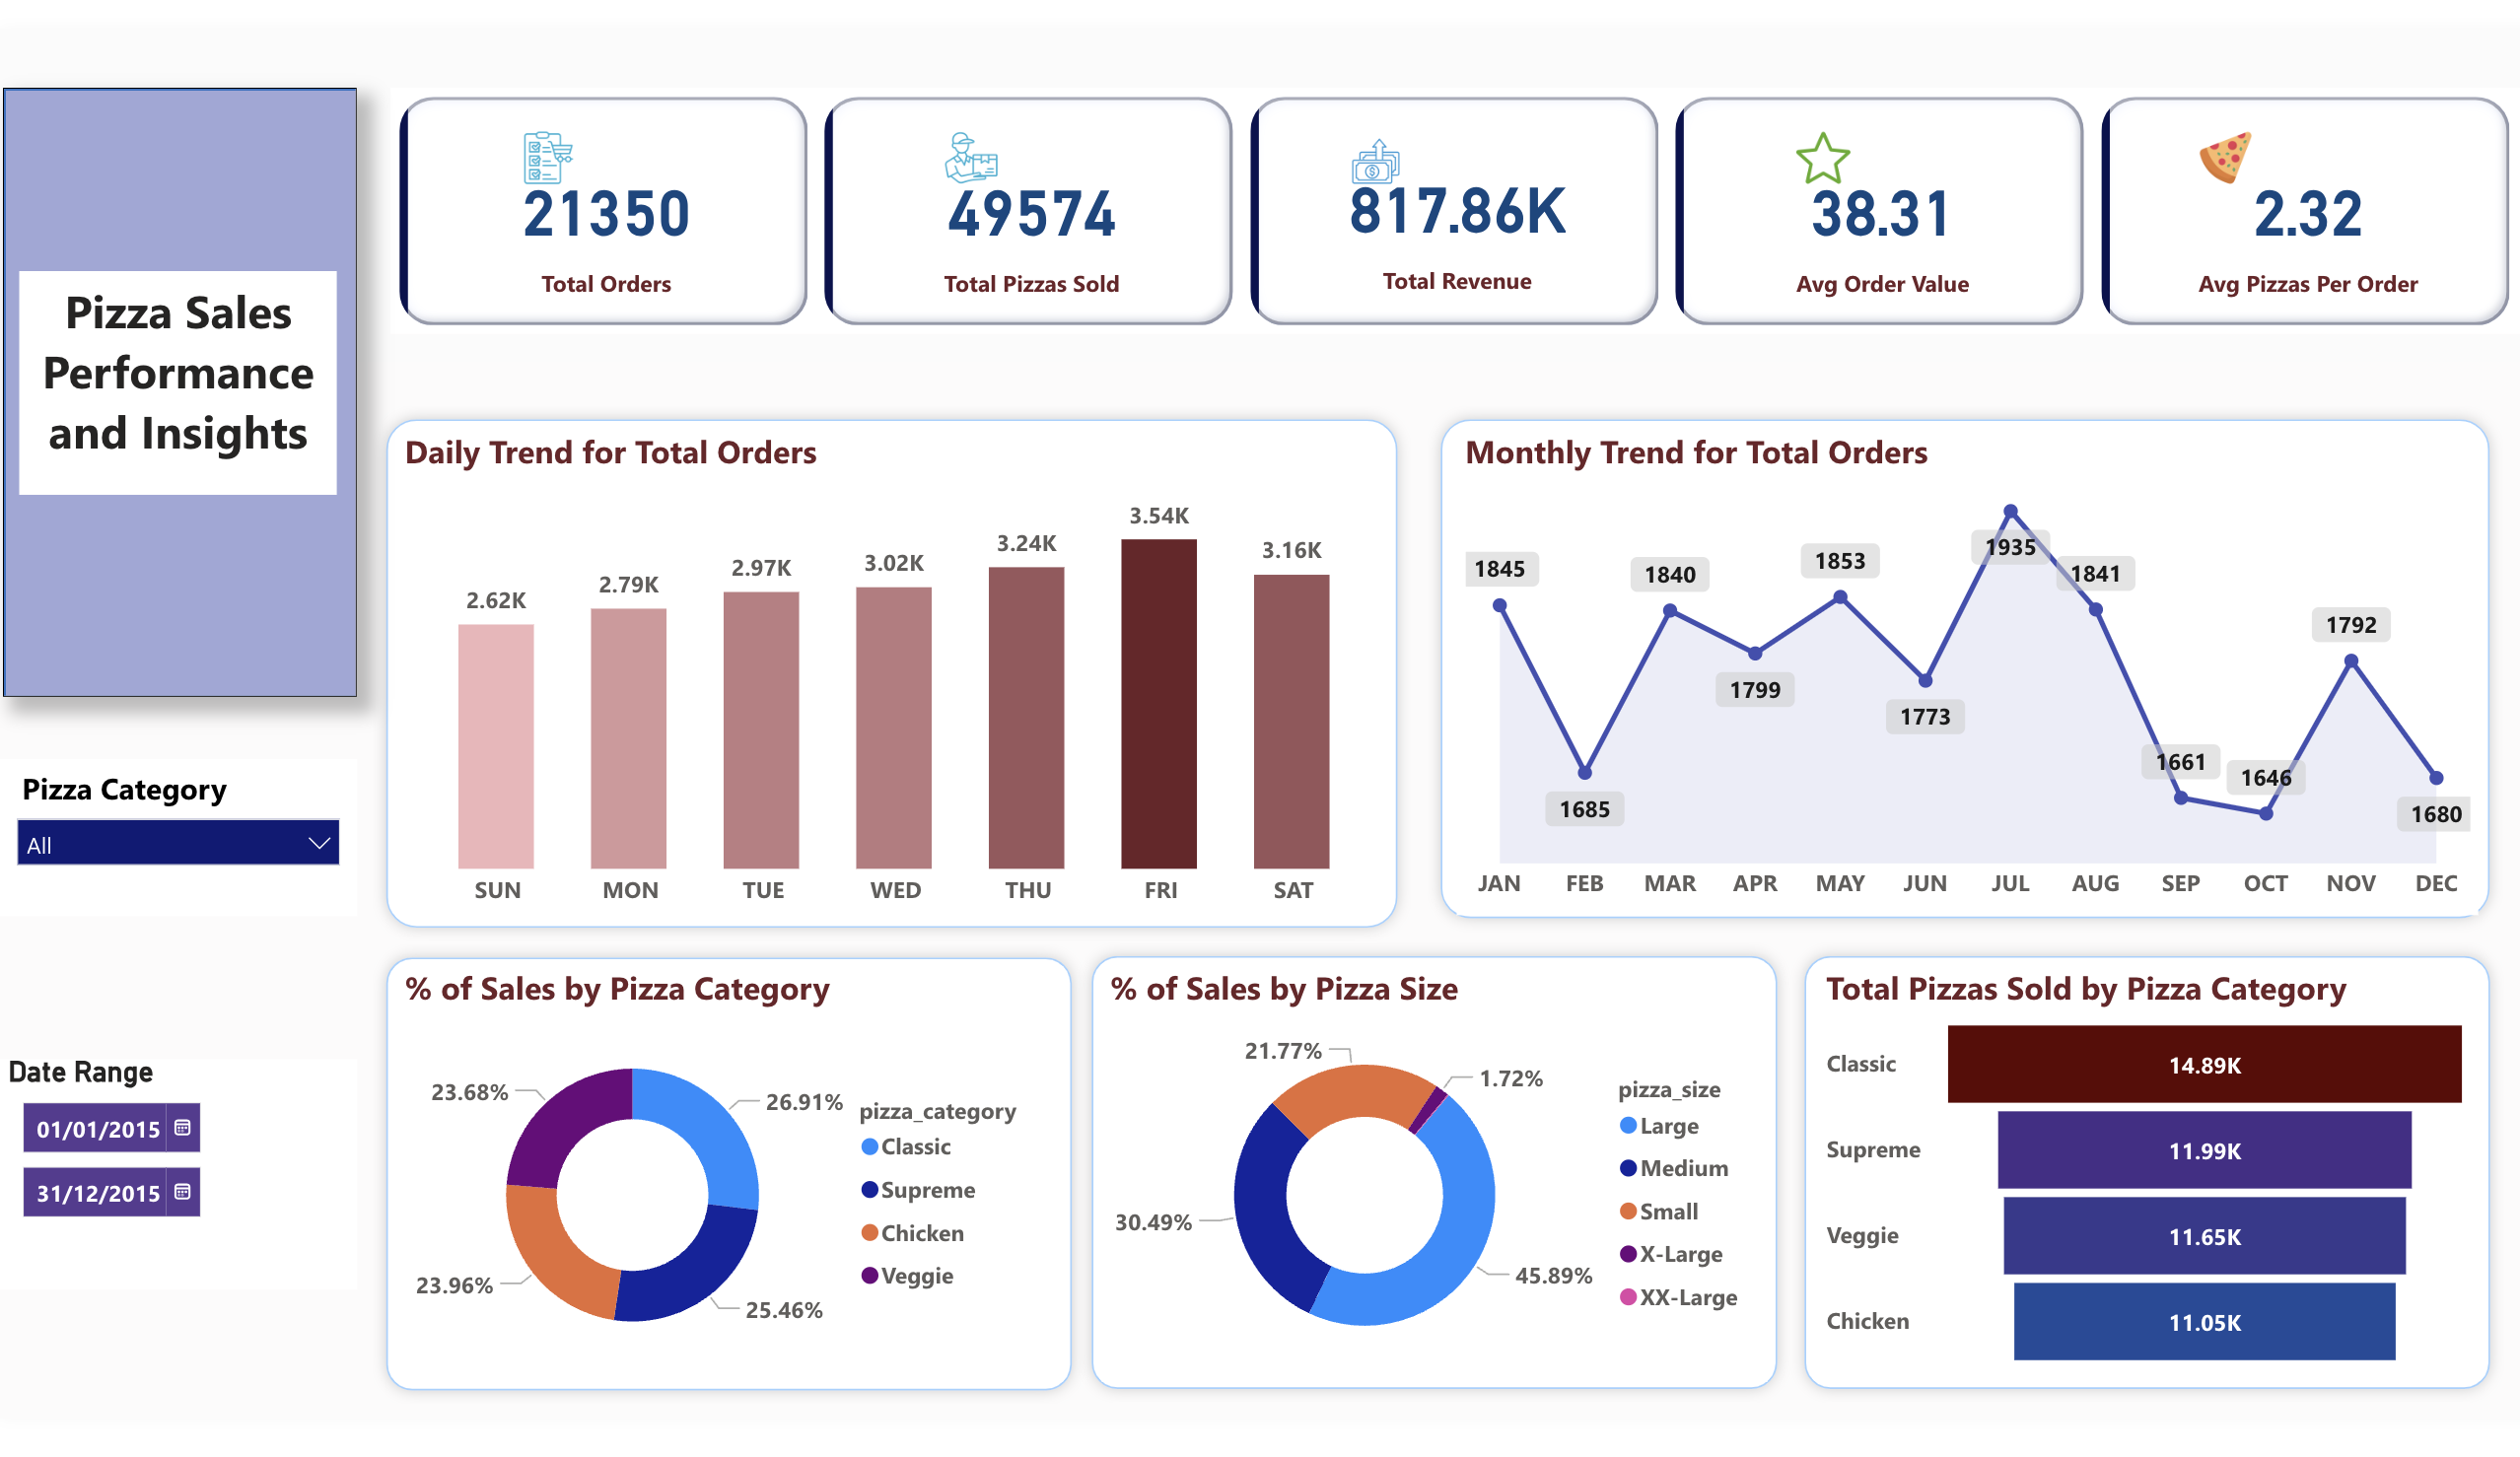

The dashboard page shown, as its layout file describes it:
{"tool":"powerbi","page":{"name":"Pizza Sales Analysis","canvas":[1500,820],"ordinal":0},"visuals":[{"type":"cardVisual","fields":{"Data":["pizza_sales.Total Orders","pizza_sales.Total Pizzas Sold","pizza_sales.Total Revenue","pizza_sales.Avg Order Value","pizza_sales.Avg Pizzas Per Order"]},"box":[230.5,35,1257.2,145.1],"z":0},{"type":"shape","box":[220,222.8,612.6,316],"z":1000},{"type":"clusteredColumnChart","title":"Daily Trend for Total Orders","fields":{"Category":["pizza_sales.Day "],"Y":["pizza_sales.Total Orders"]},"box":[233.9,236.7,588.9,291],"z":2000},{"type":"shape","box":[842.3,222.8,634.8,310.5],"z":3000},{"type":"areaChart","title":"Monthly Trend for Total Orders","fields":{"Category":["pizza_sales.Month"],"Y":["pizza_sales.Total Orders"]},"box":[859,236.7,602.8,286.8],"z":4000},{"type":"shape","box":[1056.7,538.8,420.4,271.5],"z":5000},{"type":"shape","box":[636.2,538.8,420.4,271.5],"z":6000},{"type":"shape","box":[220,540.2,420.4,271.5],"z":7000},{"type":"donutChart","title":"% of Sales by Pizza Category","fields":{"Category":["pizza_sales.pizza_category"],"Y":["pizza_sales.Total Revenue"]},"box":[233.5,553.5,393,244.9],"z":8000},{"type":"donutChart","title":"% of Sales by Pizza Size","fields":{"Y":["pizza_sales.Total Revenue"],"Category":["pizza_sales.pizza_size"]},"box":[650.2,552.7,392.6,245],"z":9000},{"type":"funnel","title":"Total Pizzas Sold by Pizza Category","fields":{"Category":["pizza_sales.pizza_category"],"Y":["pizza_sales.Total Pizzas Sold"]},"box":[1072,552.7,389.8,242.2],"z":10000},{"type":"slicer","fields":{"Values":["pizza_sales.pizza_category"]},"box":[0,431.1,210.9,92.6],"z":11000},{"type":"slicer","title":"Date Range","fields":{"Values":["pizza_sales.order_date"]},"box":[0,608,210.9,135.8],"z":12000},{"type":"shape","title":"Pizza Sales Performance and Insights","box":[2.1,35,208.8,359.1],"z":13000},{"type":"textbox","box":[11.1,143.1,187.7,131.9],"z":14000}]}

Visuals, with their boxes on the page's 1500x820 design canvas (x1, y1, x2, y2). These are canvas units, not pixel positions in the 2520x1457 screenshot, which may show the page scaled, cropped or inside an application window:
cardVisual - pizza_sales.Total Orders x pizza_sales.Total Pizzas Sold: Rect(230, 35, 1488, 180)
shape: Rect(220, 223, 833, 539)
"Daily Trend for Total Orders" clusteredColumnChart: Rect(234, 237, 823, 528)
shape: Rect(842, 223, 1477, 533)
"Monthly Trend for Total Orders" areaChart: Rect(859, 237, 1462, 524)
shape: Rect(1057, 539, 1477, 810)
shape: Rect(636, 539, 1057, 810)
shape: Rect(220, 540, 640, 812)
"% of Sales by Pizza Category" donutChart: Rect(234, 554, 626, 798)
"% of Sales by Pizza Size" donutChart: Rect(650, 553, 1043, 798)
"Total Pizzas Sold by Pizza Category" funnel: Rect(1072, 553, 1462, 795)
slicer - pizza_sales.pizza_category: Rect(0, 431, 211, 524)
"Date Range" slicer: Rect(0, 608, 211, 744)
"Pizza Sales Performance and Insights" shape: Rect(2, 35, 211, 394)
textbox: Rect(11, 143, 199, 275)
